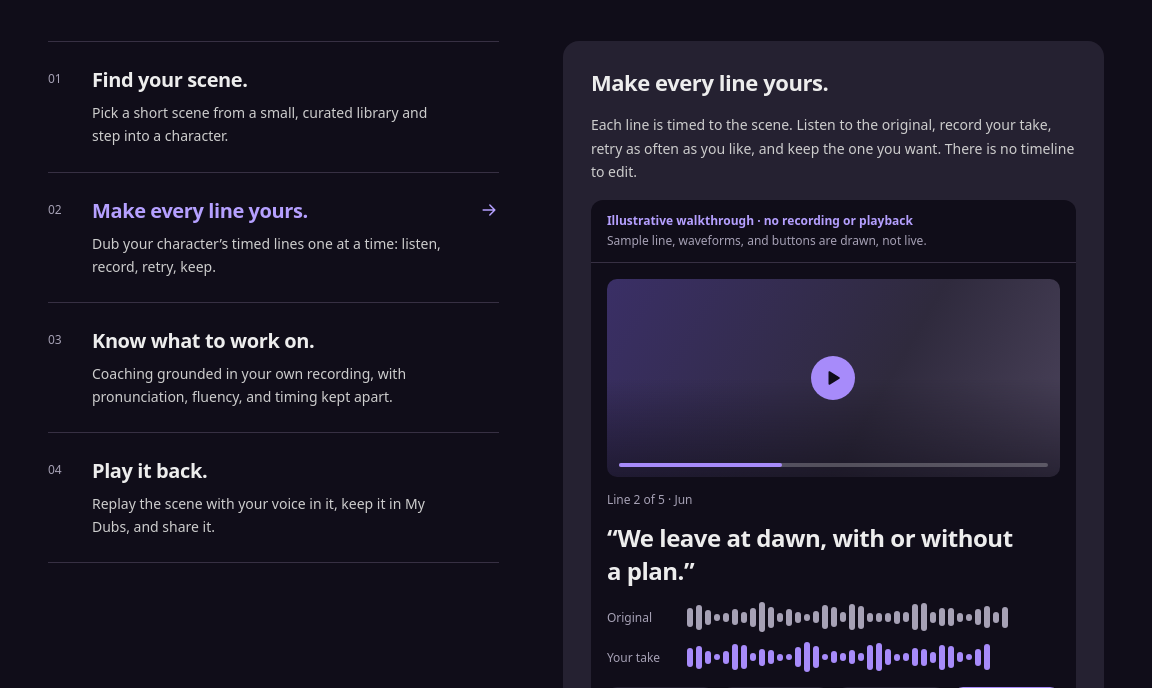
walkthrough honesty › coaching step is labeled Example feedback and shows no scores
(page scrolled)
Click the tab "Know what to work on." at (277, 340), box x1=92 y1=327 x2=463 y2=354
(page scrolled)
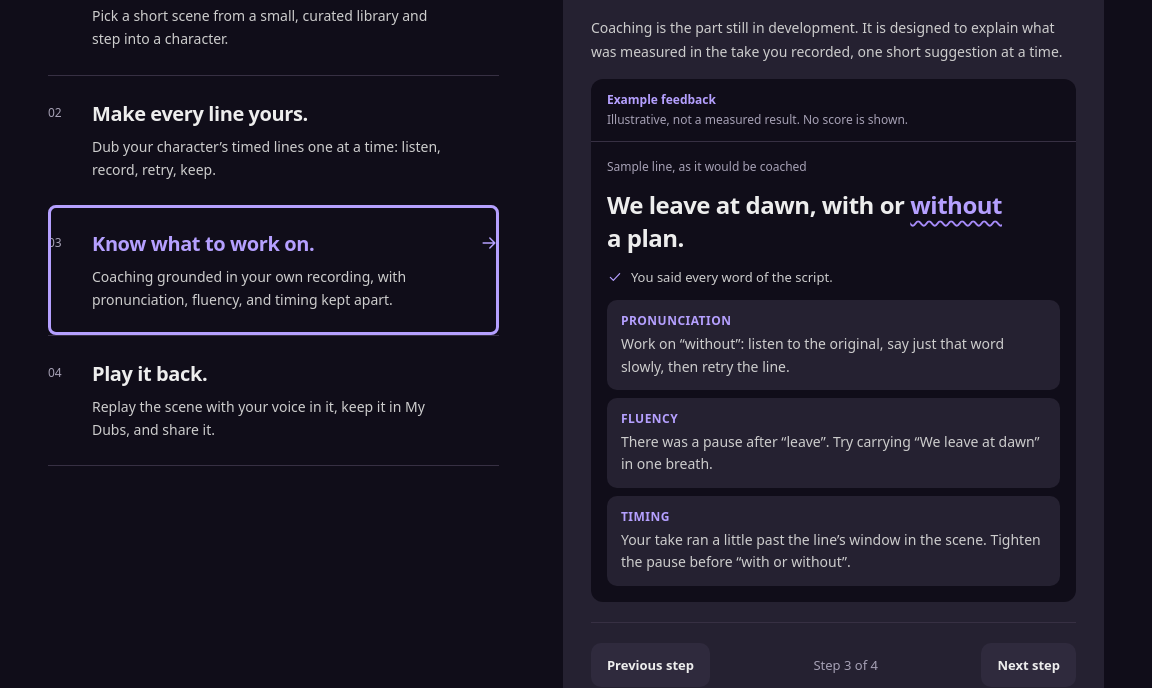
Expected: the text "Example feedback" is shown, x1=607 y1=91 x2=716 y2=108
Expected: the element that starts with "Example feedback" shows "not a measured result", x1=607 y1=111 x2=908 y2=128
